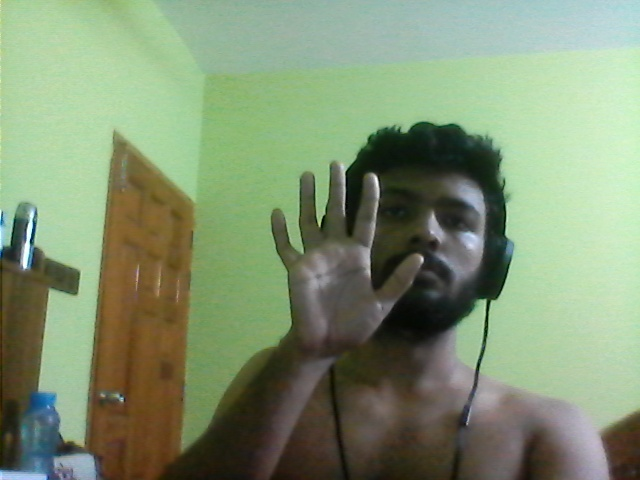Hello: (269, 161, 429, 359)
